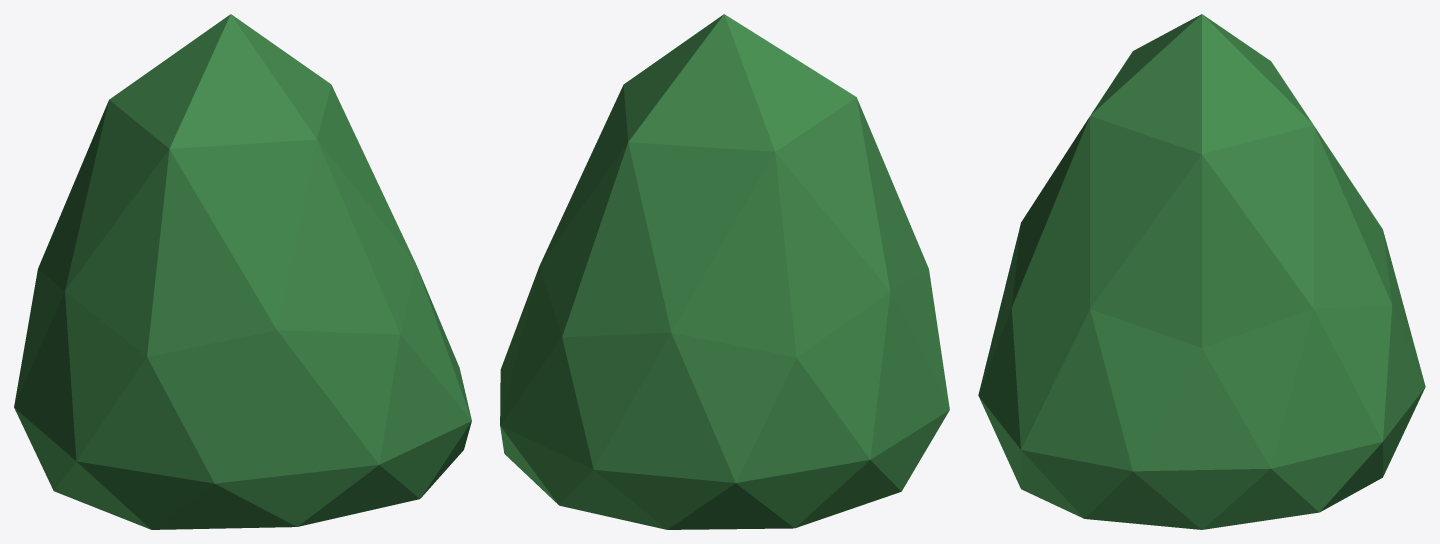
Rendered from Bush_01.fbx.
3 renders of one model, left to right at view 1: azimuth 30°, elevation 25°; view 2: azimuth 150°, elevation 25°; view 3: azimuth 270°, elevation 25°, orthographic. The views are drawn at different scales.
Parts seen in each view (by area): view 1: Bush; view 2: Bush; view 3: Bush.
Boxes of the visible parts, left/top/right/bottom form: Bush: left=14, top=14, right=471, bottom=529; Bush: left=500, top=14, right=949, bottom=529; Bush: left=978, top=14, right=1425, bottom=529.
Size of the model in its own units: 70.08 by 79.18 by 72.71.
